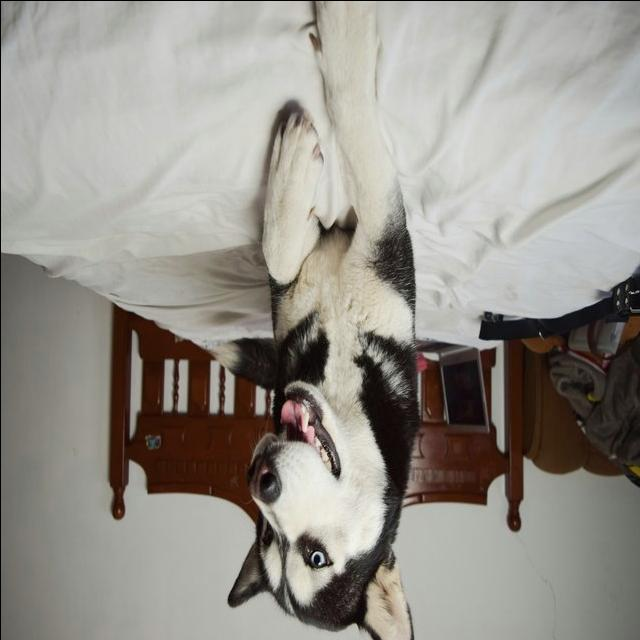husky: (201, 2, 421, 640)
